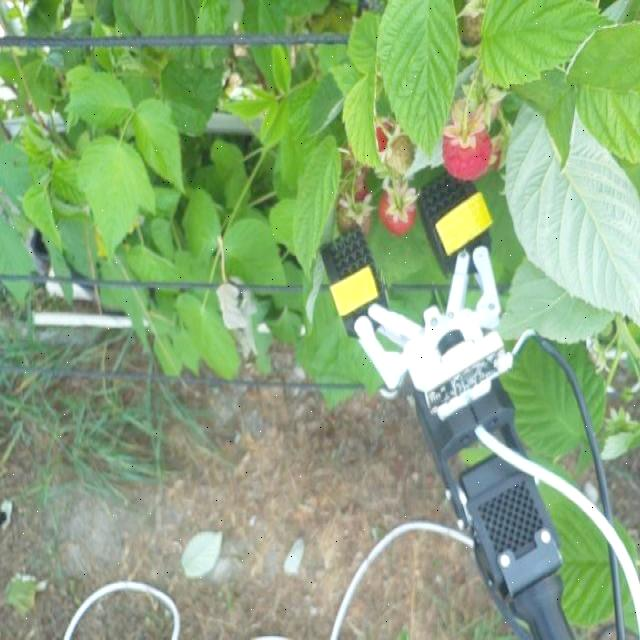Riped berries: (443, 110, 501, 182), (380, 180, 427, 240), (369, 110, 397, 154)
